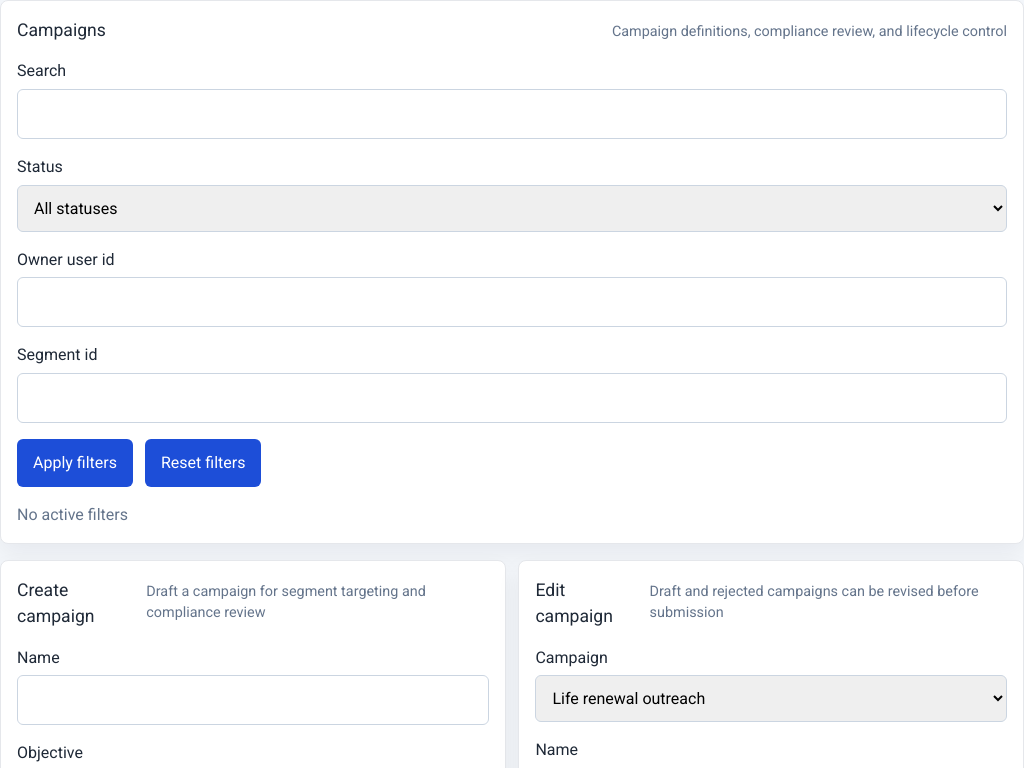
Test case: CampaignsPage › applies campaign search filters
Type "life" into the field named "Search campaigns".
click(512, 114); type("life")  # box x1=17 y1=89 x2=1007 y2=139
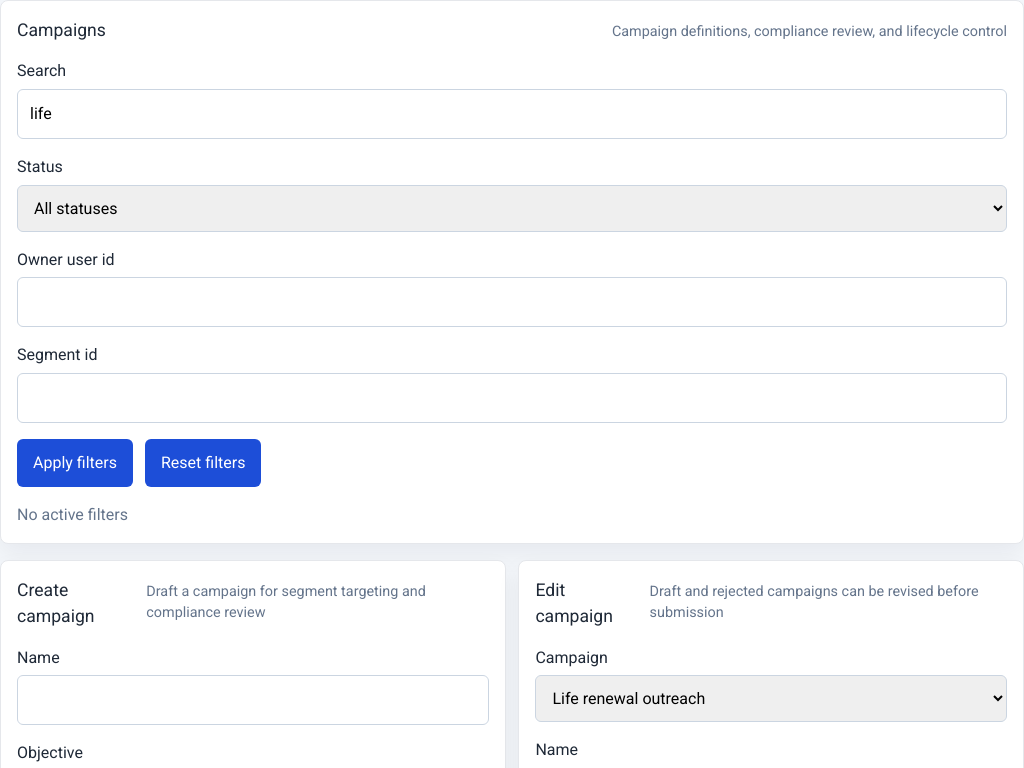
Select "Submitted" in the dropdown named "Campaign status filter" at (512, 208), box x1=17 y1=185 x2=1007 y2=232
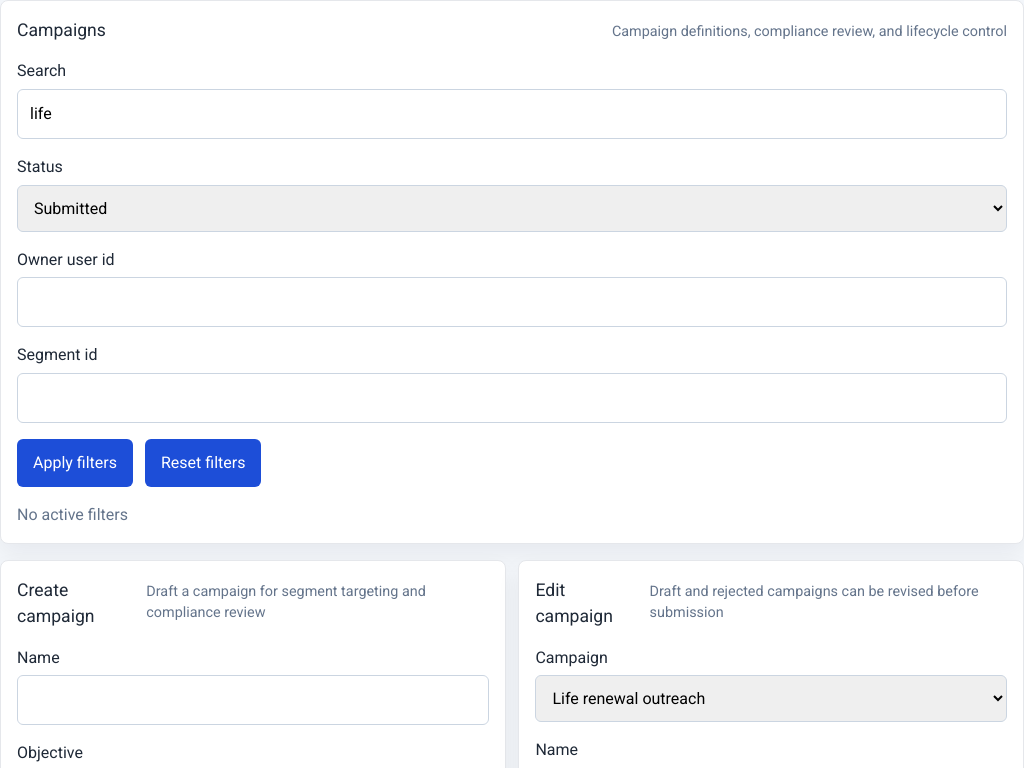
Click the button "Apply filters".
click(75, 463)  # box x1=17 y1=439 x2=133 y2=487
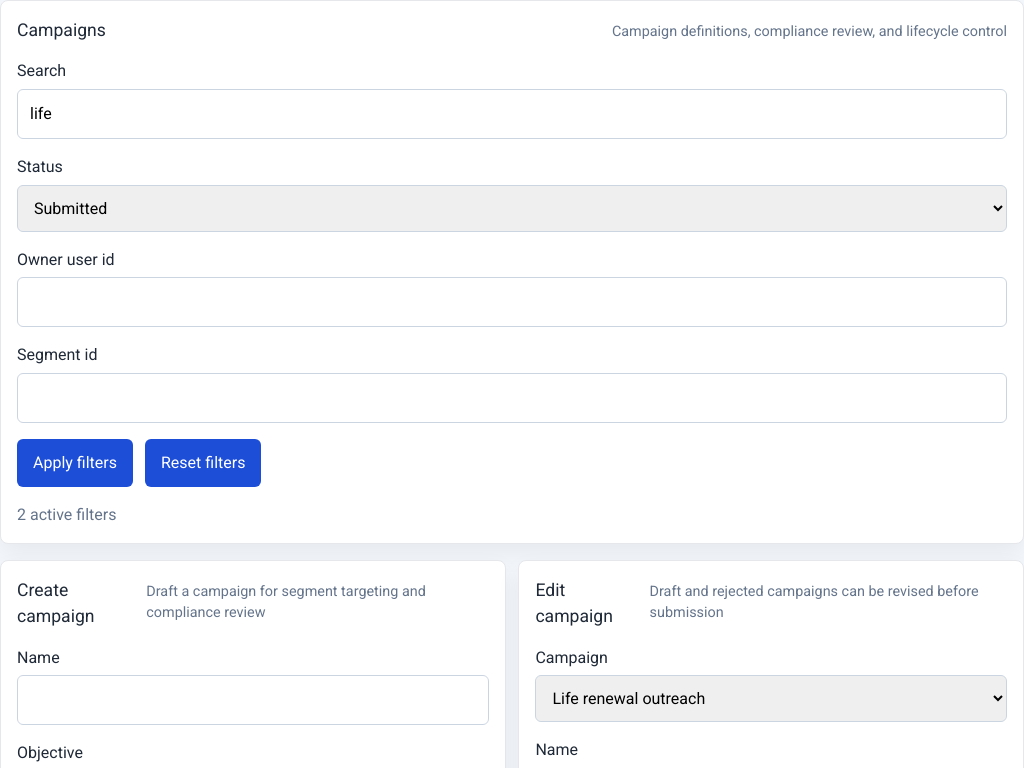
Now the text "2 active filters" is shown, box x1=17 y1=505 x2=116 y2=524
